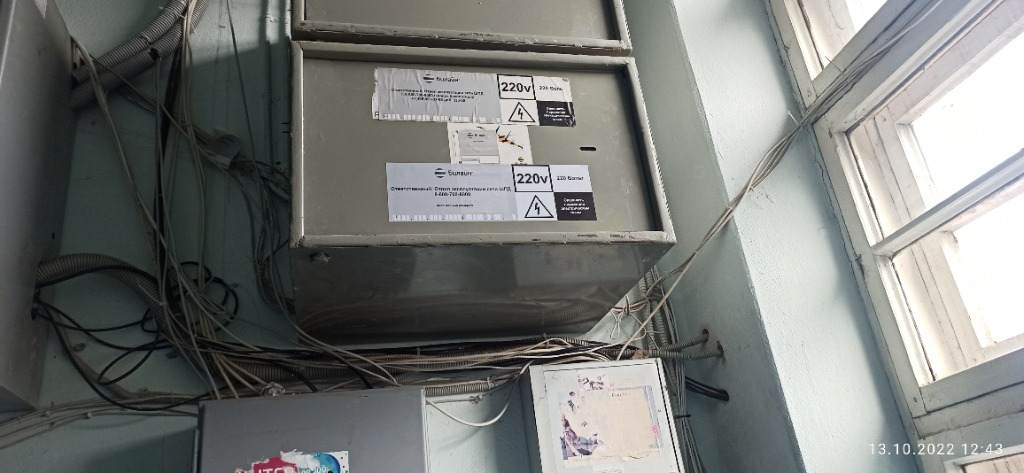e2-6u: (276, 36, 681, 340)
